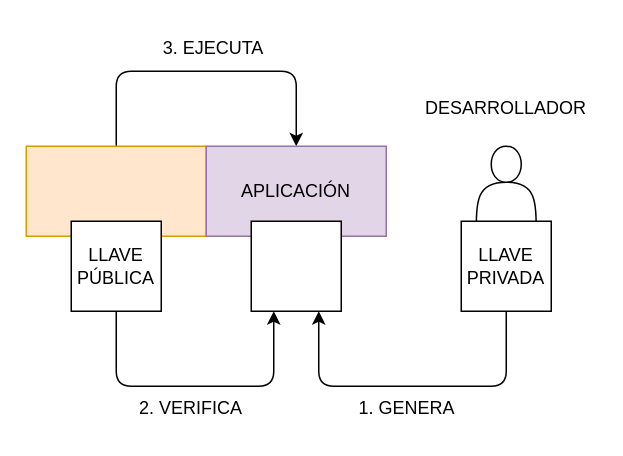
Some shapes in this 623 by 456 pixel diagram are drawn without their labels. Here are the shapes that lost their labels. From the top down, the box of each, then its label:
(25, 145, 206, 236): BOOTLOADER
(250, 220, 341, 311): FIRMA
